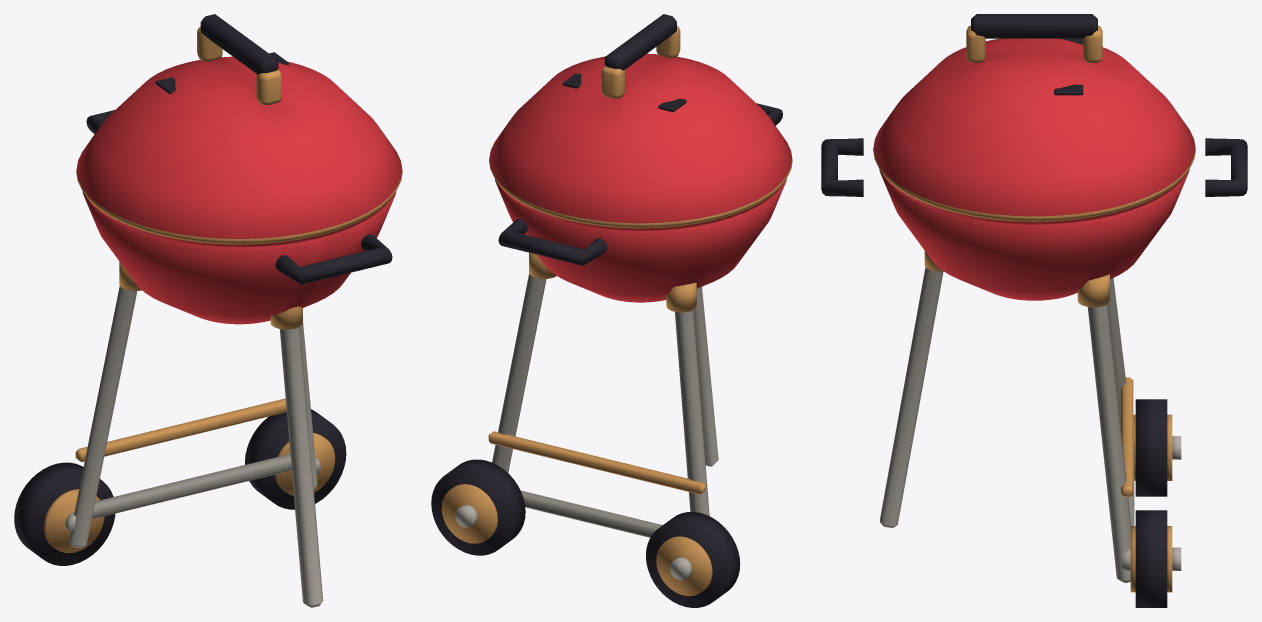
File: prop.bbq.glb
3 views of the same model, side by side, from view 1: azimuth 30°, elevation 25°; view 2: azimuth 150°, elevation 25°; view 3: azimuth 270°, elevation 25° (orthographic). The views are drawn at different scales.
Size of the model in its own units: 0.7399 by 1.2 by 0.8742.
